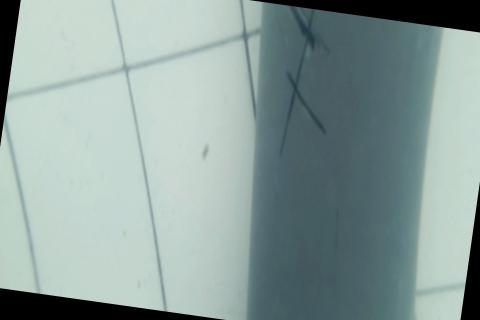keretakan: (263, 4, 344, 164)
